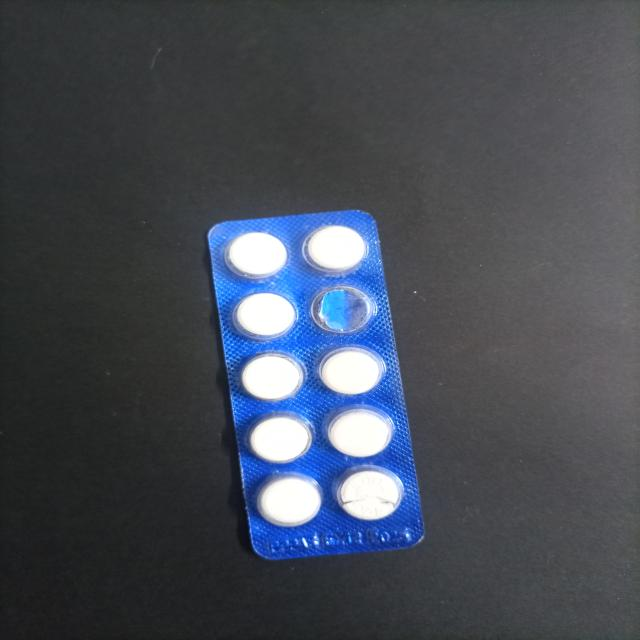defect: (330, 464, 405, 523), (309, 284, 380, 336)
